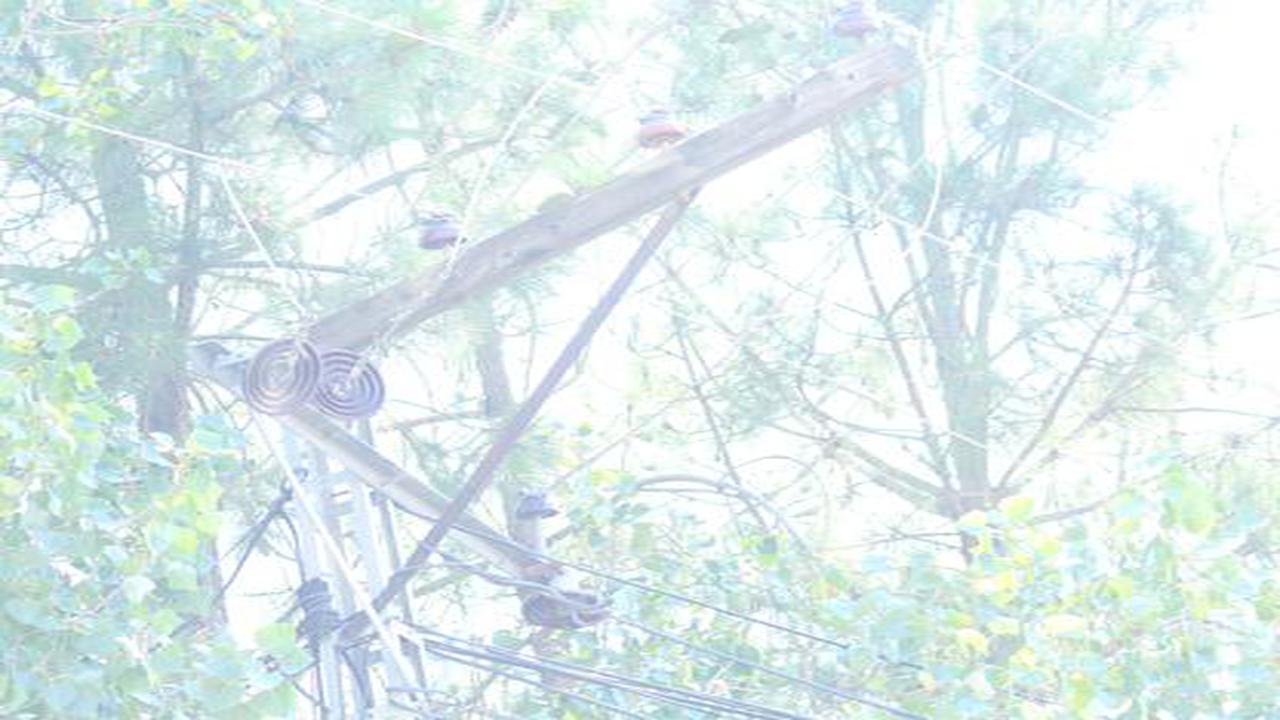insulator_disc: (243, 336, 323, 413), (321, 347, 390, 419)
insulator_pin: (629, 108, 688, 149), (416, 207, 468, 252), (508, 484, 562, 526), (824, 6, 884, 41)
